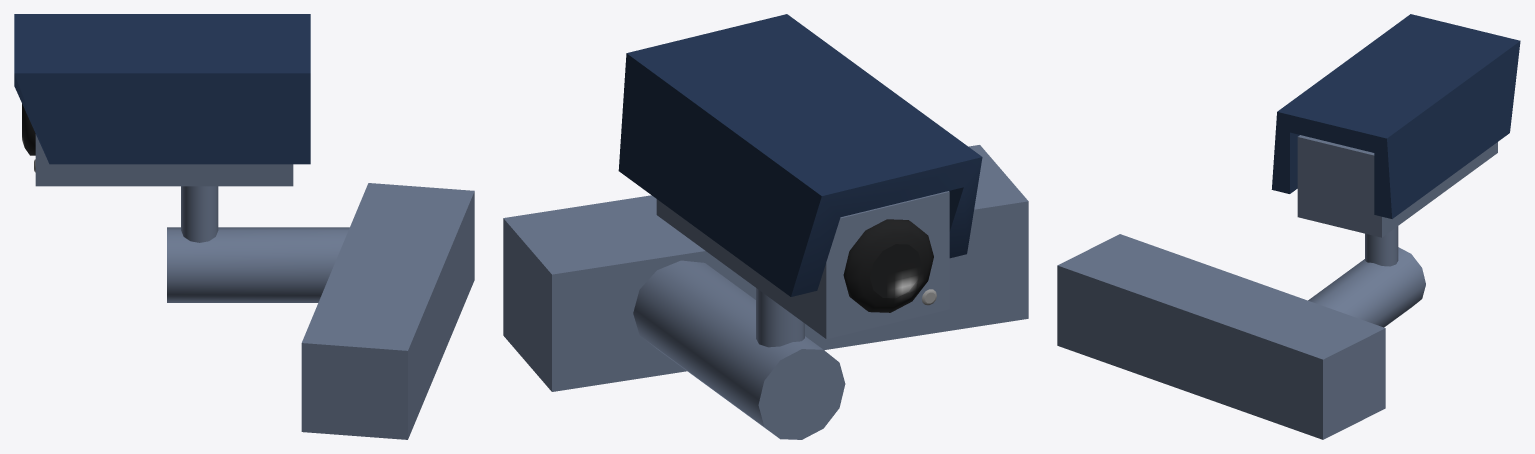
Rendered from shexiangtou.FBX.
3 renders of one model, left to right at view 1: azimuth 30°, elevation 25°; view 2: azimuth 150°, elevation 25°; view 3: azimuth 270°, elevation 25°, orthographic. The views are drawn at different scales.
Parts seen in each view (by area): view 1: shexiangtou; view 2: shexiangtou; view 3: shexiangtou.
Part boxes in pixels (x1,y1,x2,y2): shexiangtou: [14, 14, 474, 439]; shexiangtou: [503, 14, 1028, 439]; shexiangtou: [1057, 14, 1520, 439].
Bounding box in the file's own units: 96.36 × 60.67 × 104.
